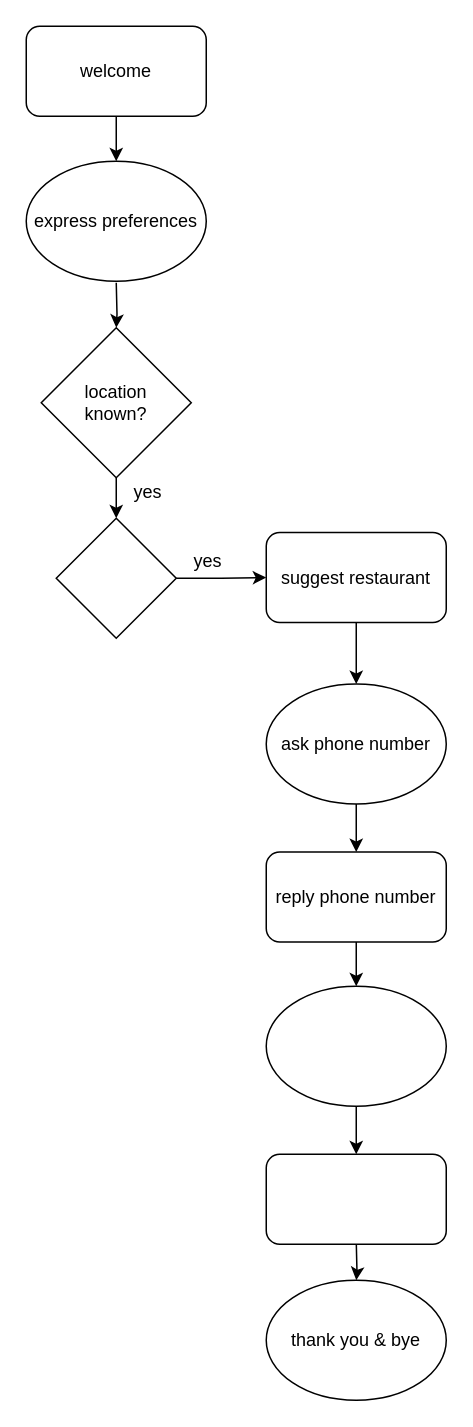
Image size: 473x1427. Some labels were removed from this diagram. Each missing label, with the centre of its shape:
"ask address" belongs at pixel 355 1045.
"price known?" belongs at pixel 115 577.
"reply address" belongs at pixel 355 1198.
